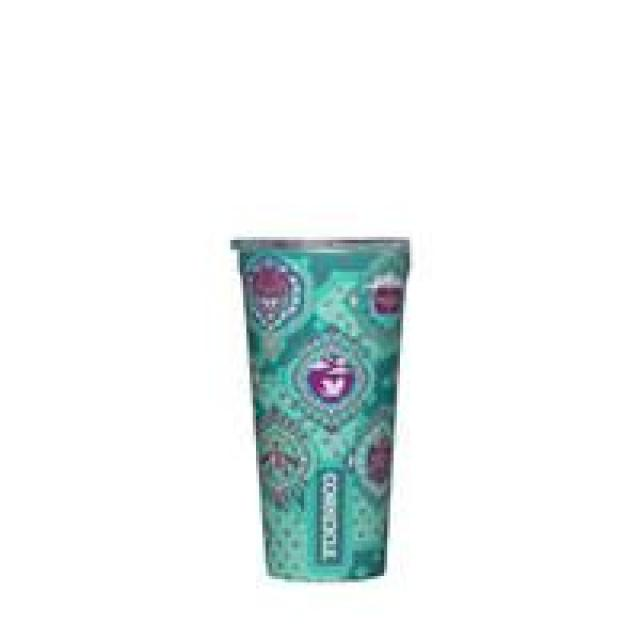bottle: (229, 234, 411, 586)
